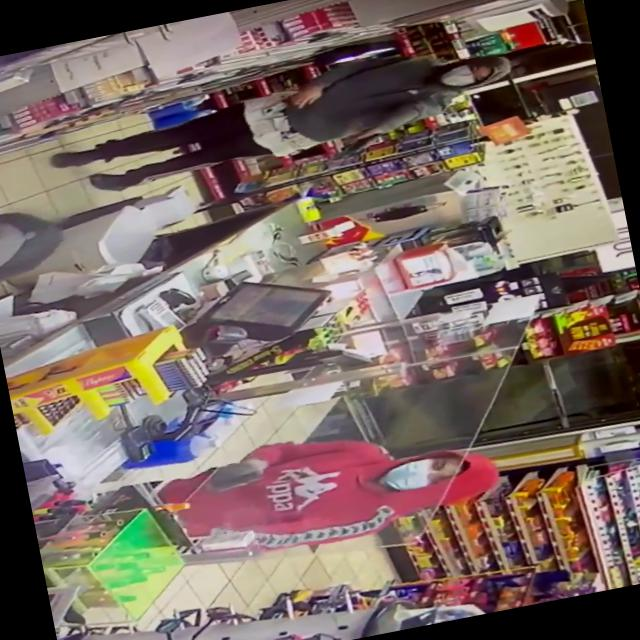handgun: (191, 454, 285, 503), (316, 122, 394, 172)
